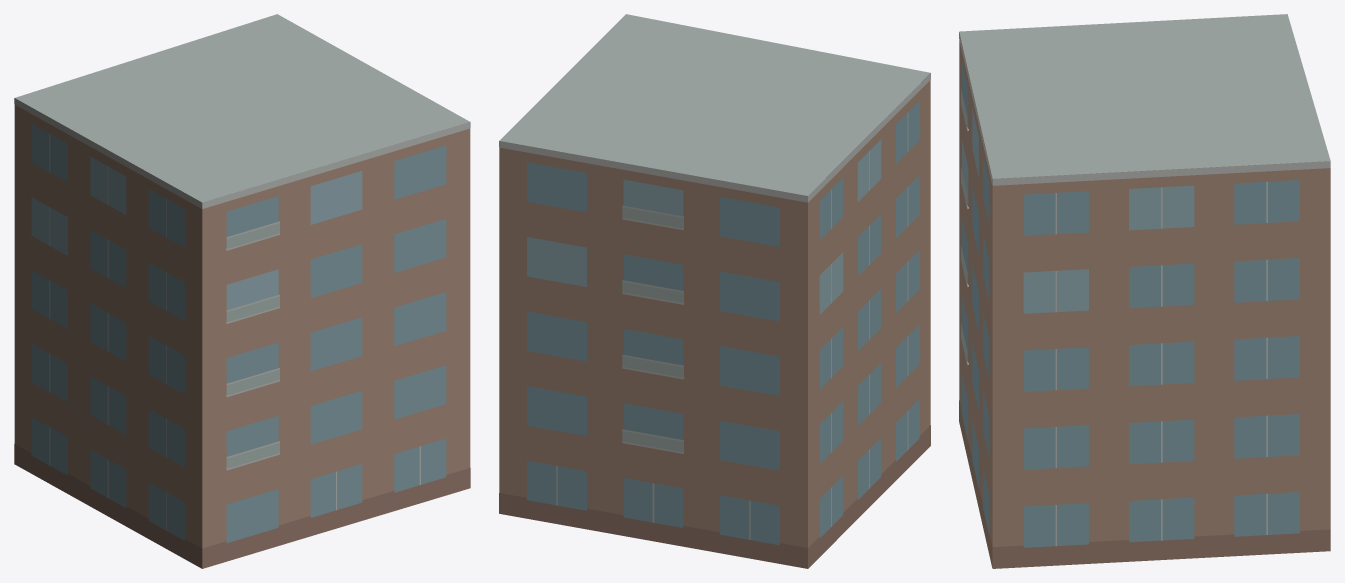
Rendered from survey-upis-32719550.glb.
3 renders of one model, left to right at view 1: azimuth 30°, elevation 25°; view 2: azimuth 150°, elevation 25°; view 3: azimuth 270°, elevation 25°, orthographic. The views are drawn at different scales.
Visible parts, largest first — view 1: survey-upis-32719550.tmp; view 2: survey-upis-32719550.tmp; view 3: survey-upis-32719550.tmp.
Part boxes in pixels (x1,y1,x2,y2): survey-upis-32719550.tmp: (14,14,470,568); survey-upis-32719550.tmp: (499,14,930,568); survey-upis-32719550.tmp: (959,14,1330,568).
Size of the model in its own units: 12.43 by 13.7 by 11.84.
